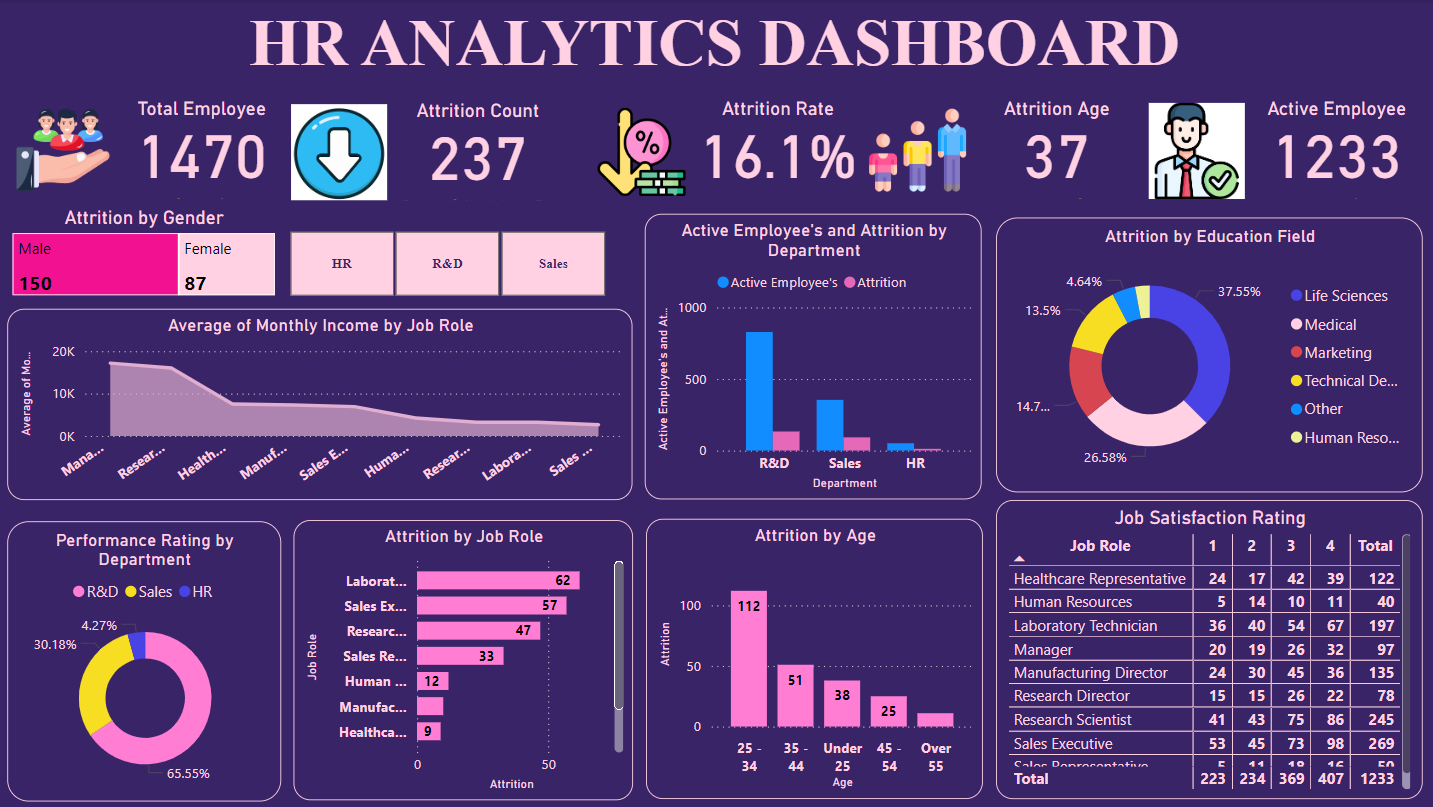

The dashboard page shown, as its layout file describes it:
{"tool":"powerbi","page":{"name":"Page 1","canvas":[1280,720],"ordinal":0},"visuals":[{"type":"card","title":"Total Employee","fields":{"Values":["Sum(HR data.Employee Count)"]},"box":[106.7,87,152.7,95],"z":0,"group":"g1"},{"type":"clusteredColumnChart","fields":{"Y":["HR data.Active Employee's","Sum(HR data.Attrition Count)"],"Category":["HR data.Department"]},"box":[577.7,190.6,300.3,254.5],"z":0},{"type":"card","title":"Attrition Count","fields":{"Values":["Sum(HR data.Attrition Count)"]},"box":[352.5,88.2,152.5,95],"z":1000,"group":"g1"},{"type":"donutChart","fields":{"Category":["HR data.Education Field"],"Y":["Sum(HR data.Attrition Count)"]},"box":[890.1,194.2,379.9,244.8],"z":1000},{"type":"card","title":"Attrition Rate","fields":{"Values":["HR data.Attrition Rate"]},"box":[619.3,87,152.7,95],"z":2000,"group":"g1"},{"type":"columnChart","fields":{"Y":["Sum(HR data.Attrition Count)"],"Category":["HR data.CF_age band"]},"box":[578.5,461.9,300.3,249.6],"z":2000},{"type":"card","title":"Attrition Age","fields":{"Values":["Avg(HR data.Age)"]},"box":[867.6,87,152.7,95],"z":3000,"group":"g1"},{"type":"pivotTable","title":"Job Satisfaction Rating","fields":{"Rows":["HR data.Job Role"],"Columns":["HR data.Job Satisfaction"],"Values":["HR data.Active Employee's"]},"box":[890.1,445,379.9,266.5],"z":3000},{"type":"card","title":"Active Employee","fields":{"Values":["HR data.Active Employee's"]},"box":[1117.2,87,152.7,95],"z":4000,"group":"g1"},{"type":"donutChart","fields":{"Category":["HR data.Department"],"Y":["Sum(HR data.Performance Rating)"]},"box":[9.6,464.3,243.6,249.6],"z":4000},{"type":"clusteredBarChart","fields":{"Category":["HR data.Job Role"],"Y":["Sum(HR data.Attrition Count)"]},"box":[264.5,463.1,302.7,249.6],"z":5000},{"type":"areaChart","fields":{"Y":["Avg(HR data.Monthly Income)"],"Category":["HR data.Job Role"]},"box":[9.6,275,557.2,170.1],"z":6000},{"type":"treemap","title":"Attrition by Gender","fields":{"Group":["HR data.Gender"],"Values":["Sum(HR data.Attrition Count)"]},"box":[9.7,183.4,243.7,84.5],"z":7000},{"type":"slicer","fields":{"Values":["HR data.Department"]},"box":[236.5,199.1,330.6,71.2],"z":8000},{"type":"group","id":"g1","title":"Group 1","box":[9.6,84.4,1260.3,98.9],"z":9000},{"type":"image","box":[521.9,90.7,106.3,87.8],"z":9000,"group":"g1"},{"type":"textbox","box":[0,0,1279.6,85.6],"z":10000},{"type":"image","box":[769.9,85.6,100.1,96.2],"z":10000,"group":"g1"},{"type":"image","box":[256.9,88,97.6,95],"z":11000,"group":"g1"},{"type":"image","box":[9.6,84.4,98.8,97.5],"z":12000,"group":"g1"},{"type":"image","box":[1018.4,86.8,101.3,95],"z":13001,"group":"g1"}]}

Visuals, with their boxes in screenshot pixels (x1, y1, x2, y2), scaled from the page's 1280x720 canvas onto the 1433x807 screenshot:
"Total Employee" card: 119:98:290:204
clusteredColumnChart - HR data.Active Employee's x Sum(HR data.Attrition Count): 647:214:983:499
"Attrition Count" card: 395:99:565:205
donutChart - HR data.Education Field x Sum(HR data.Attrition Count): 996:218:1422:492
"Attrition Rate" card: 693:98:864:204
columnChart - Sum(HR data.Attrition Count) x HR data.CF_age band: 648:518:984:797
"Attrition Age" card: 971:98:1142:204
"Job Satisfaction Rating" pivotTable: 996:499:1422:797
"Active Employee" card: 1251:98:1422:204
donutChart - HR data.Department x Sum(HR data.Performance Rating): 11:520:283:800
clusteredBarChart - HR data.Job Role x Sum(HR data.Attrition Count): 296:519:635:799
areaChart - Avg(HR data.Monthly Income) x HR data.Job Role: 11:308:635:499
"Attrition by Gender" treemap: 11:206:284:300
slicer - HR data.Department: 265:223:635:303
"Group 1" group: 11:95:1422:205
image: 584:102:703:200
textbox: 0:0:1432:96
image: 862:96:974:204
image: 288:99:397:205
image: 11:95:121:204
image: 1140:97:1254:204
